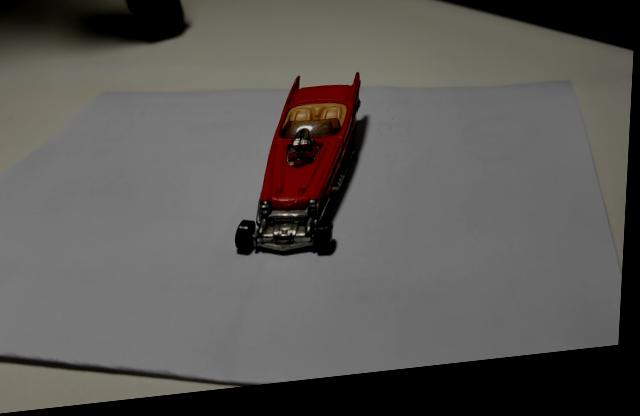03_V8: (237, 82, 372, 266)
